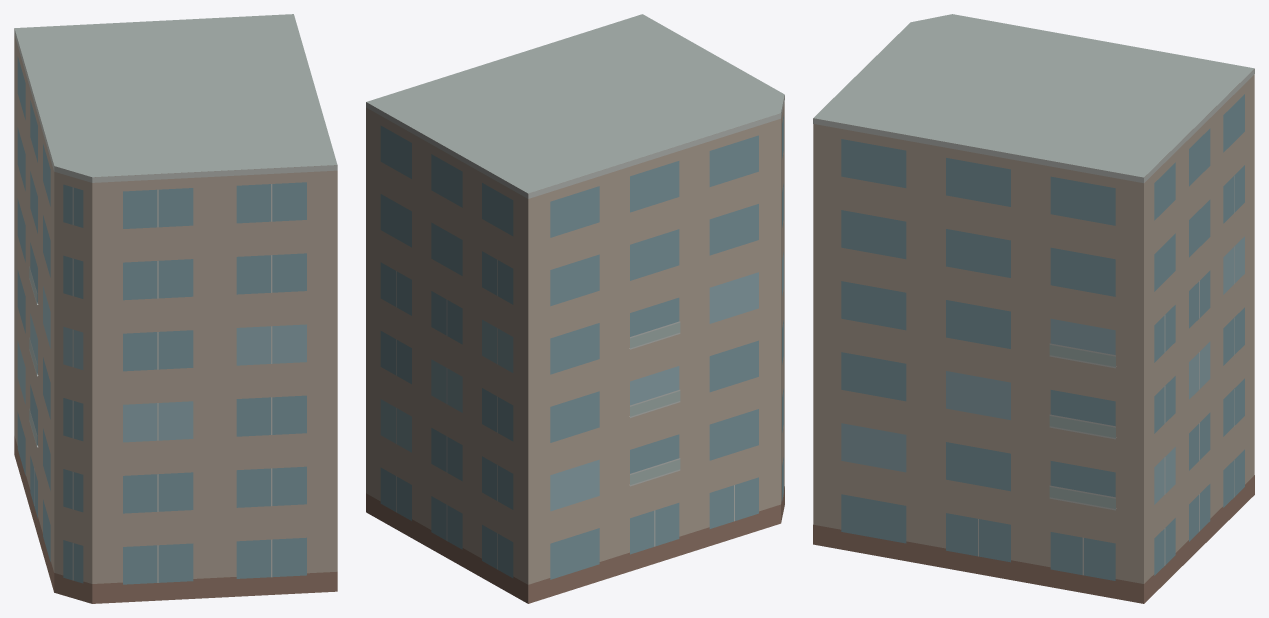
The model's file is survey-upis-32524521.glb.
3 views of the same model, side by side, from view 1: azimuth 30°, elevation 25°; view 2: azimuth 150°, elevation 25°; view 3: azimuth 270°, elevation 25° (orthographic). The views are drawn at different scales.
Parts seen in each view (by area): view 1: survey-upis-32524521.tmp; view 2: survey-upis-32524521.tmp; view 3: survey-upis-32524521.tmp.
Part boxes in pixels (bbox=[...]): survey-upis-32524521.tmp: bbox=[14, 14, 337, 603]; survey-upis-32524521.tmp: bbox=[366, 14, 784, 603]; survey-upis-32524521.tmp: bbox=[813, 14, 1254, 603].
Bounding box in the file's own units: 15.07 × 18.3 × 17.19.
